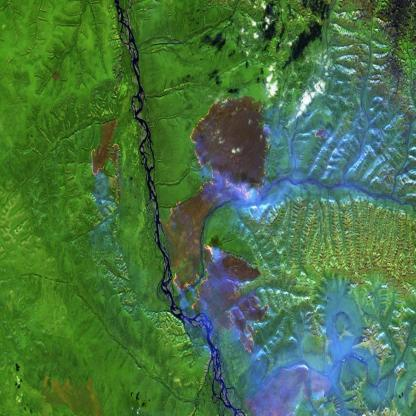fire: (172, 241, 264, 360), (187, 91, 270, 201), (86, 139, 123, 178)
